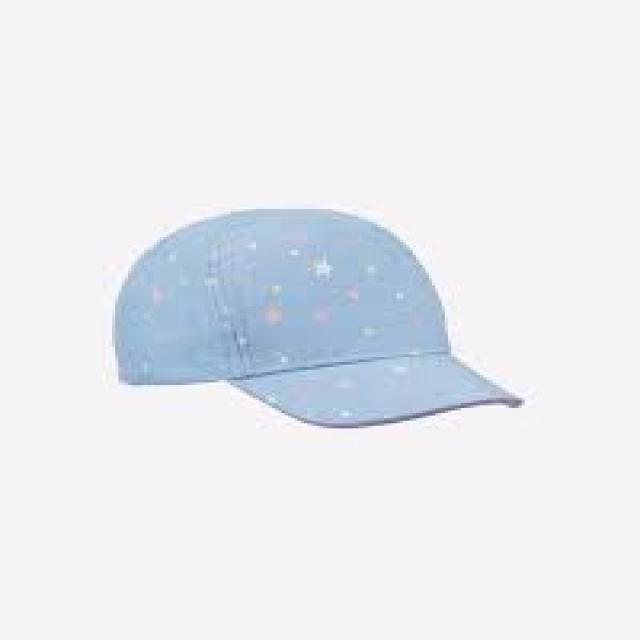cap: (88, 185, 552, 486)
